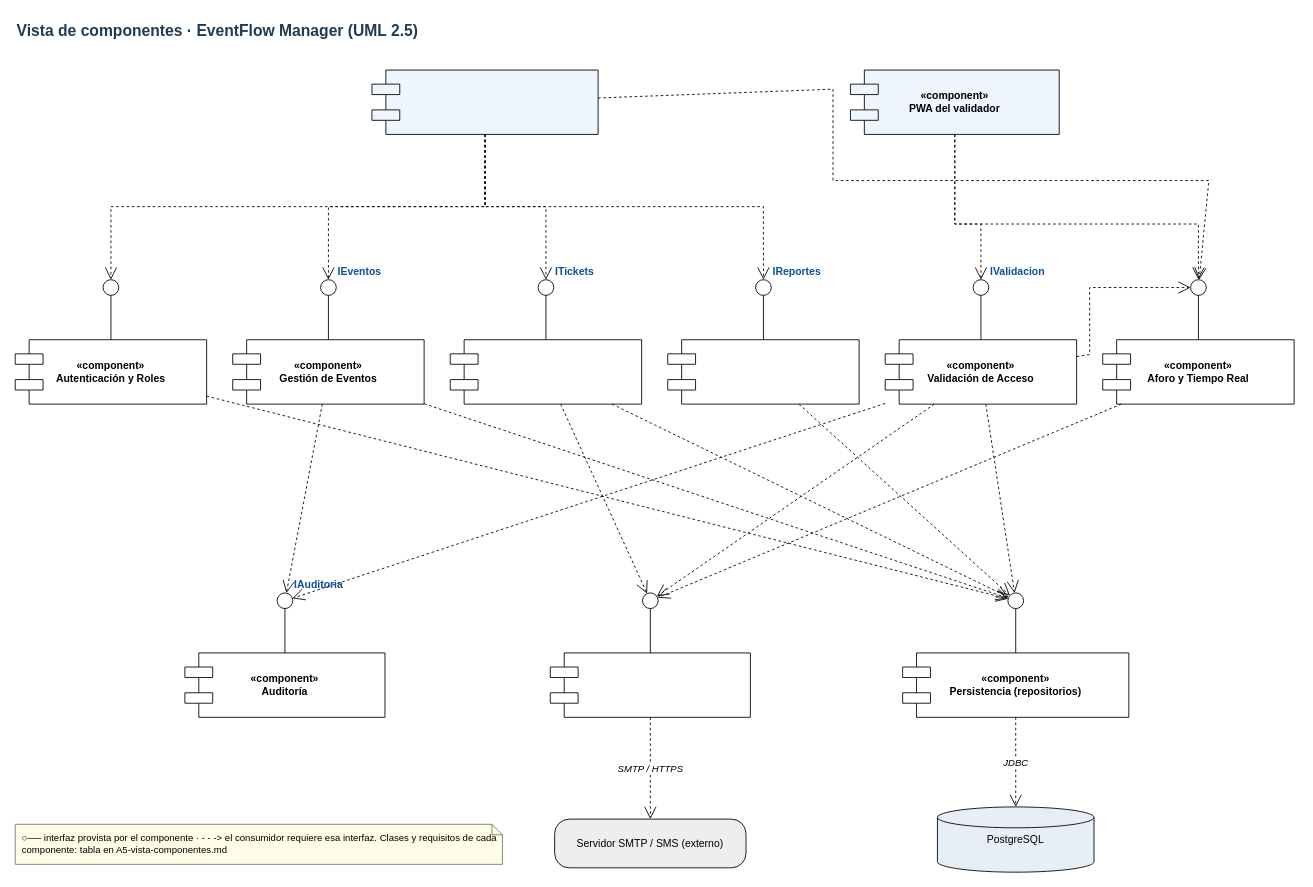
Some shapes in this 1313 by 887 pixel diagram are drawn without their labels. Here are the shapes that lost their labels. From the top down, the box of each, then its label:
(371, 69, 598, 134): «component» Aplicación web SPA
(102, 279, 119, 295): IAutenticacion
(1190, 279, 1206, 295): IAforoTiempoReal
(449, 339, 642, 404): «component» Emisión de Tickets
(667, 339, 859, 404): «component» Reportes
(642, 592, 658, 609): INotificacion
(1007, 592, 1024, 609): IRepositorios
(549, 652, 750, 717): «component» Notificaciones
